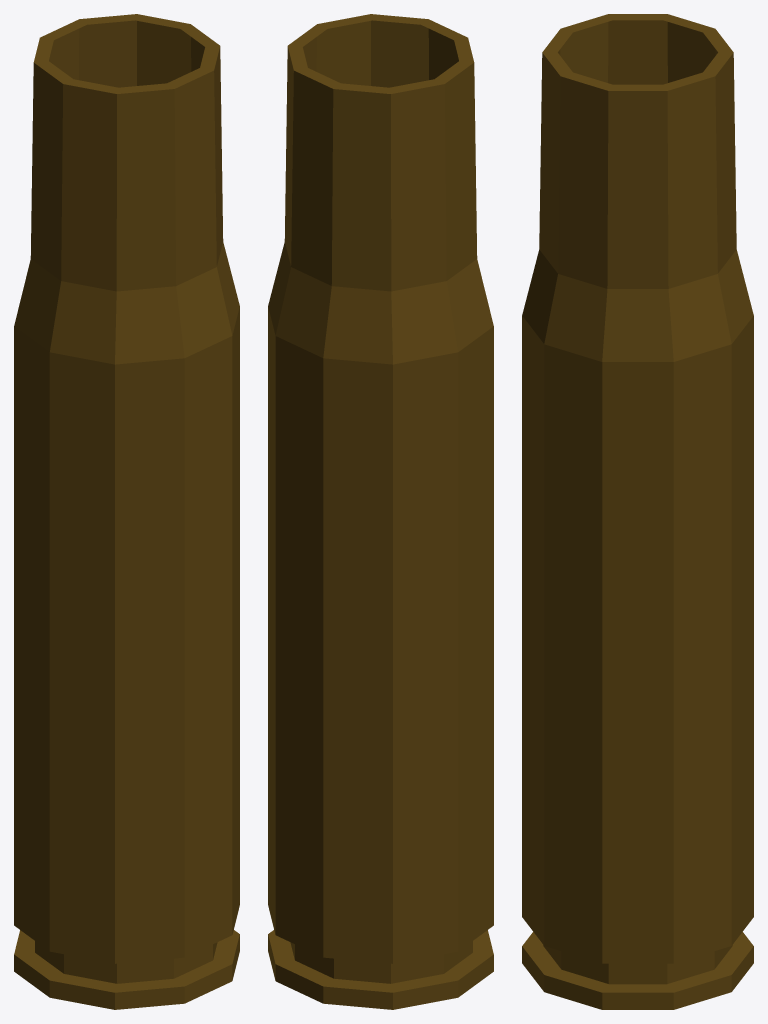
File: Rifle Casing.glb
The picture shows the model from 3 angles, left to right: view 1: azimuth 30°, elevation 25°; view 2: azimuth 150°, elevation 25°; view 3: azimuth 270°, elevation 25°; orthographic projection.
Visible parts, largest first — view 1: Rifle Casing; view 2: Rifle Casing; view 3: Rifle Casing.
Boxes of the visible parts, x1=… form: Rifle Casing: x1=14, y1=14, x2=239, y2=1009; Rifle Casing: x1=268, y1=14, x2=493, y2=1009; Rifle Casing: x1=522, y1=14, x2=753, y2=1009.
Bounding box in the file's own units: 1.29 × 5.89 × 1.36.
